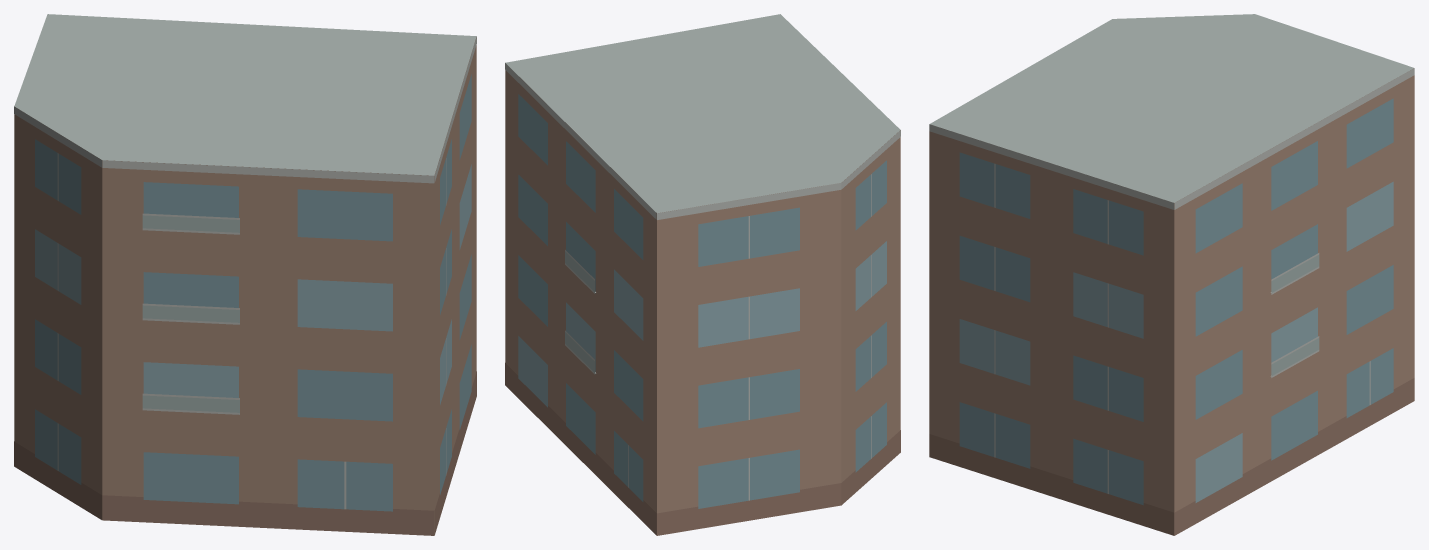
The model's file is survey-upis-32764107.glb.
3 renders of one model, left to right at view 1: azimuth 30°, elevation 25°; view 2: azimuth 150°, elevation 25°; view 3: azimuth 270°, elevation 25°, orthographic. The views are drawn at different scales.
Parts seen in each view (by area): view 1: survey-upis-32764107.tmp; view 2: survey-upis-32764107.tmp; view 3: survey-upis-32764107.tmp.
Part boxes in pixels (x1,y1,x2,y2): survey-upis-32764107.tmp: (14, 14, 476, 535); survey-upis-32764107.tmp: (505, 14, 900, 535); survey-upis-32764107.tmp: (929, 14, 1414, 535).
Size of the model in its own units: 13.88 by 11.4 by 15.06.
